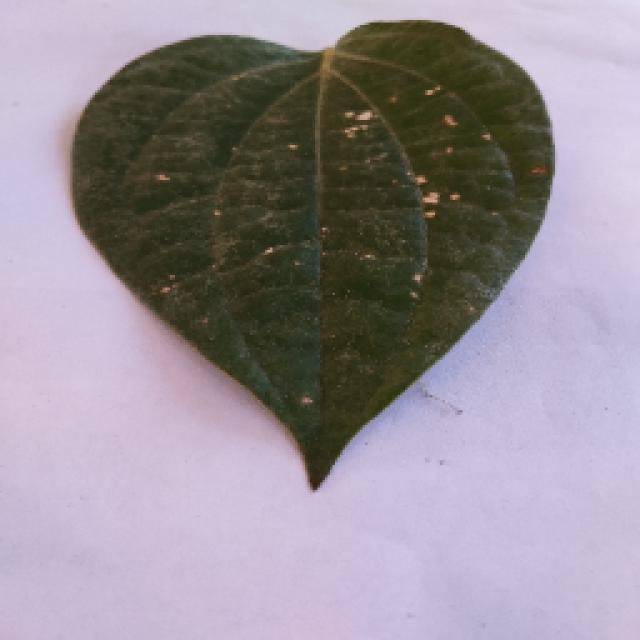pollu-disease: (45, 18, 570, 488)
